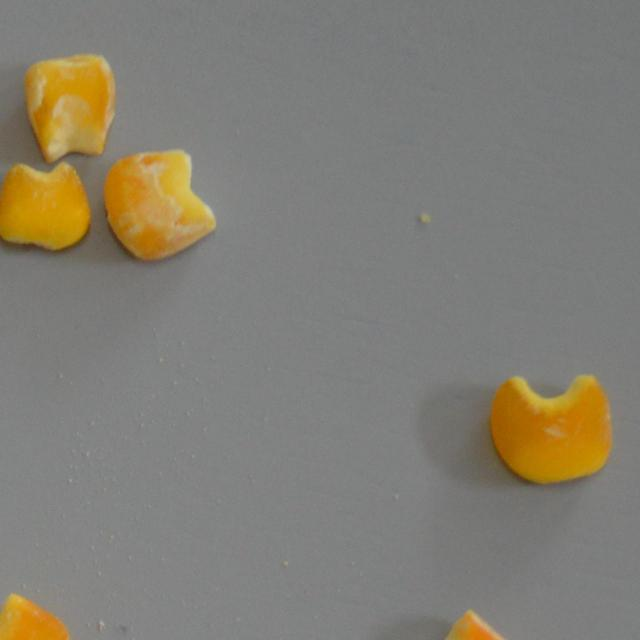no_canjicado: (490, 374, 612, 486), (0, 160, 90, 251), (0, 594, 75, 640)
pelicula: (102, 148, 216, 261), (22, 52, 114, 162), (410, 608, 520, 640)
